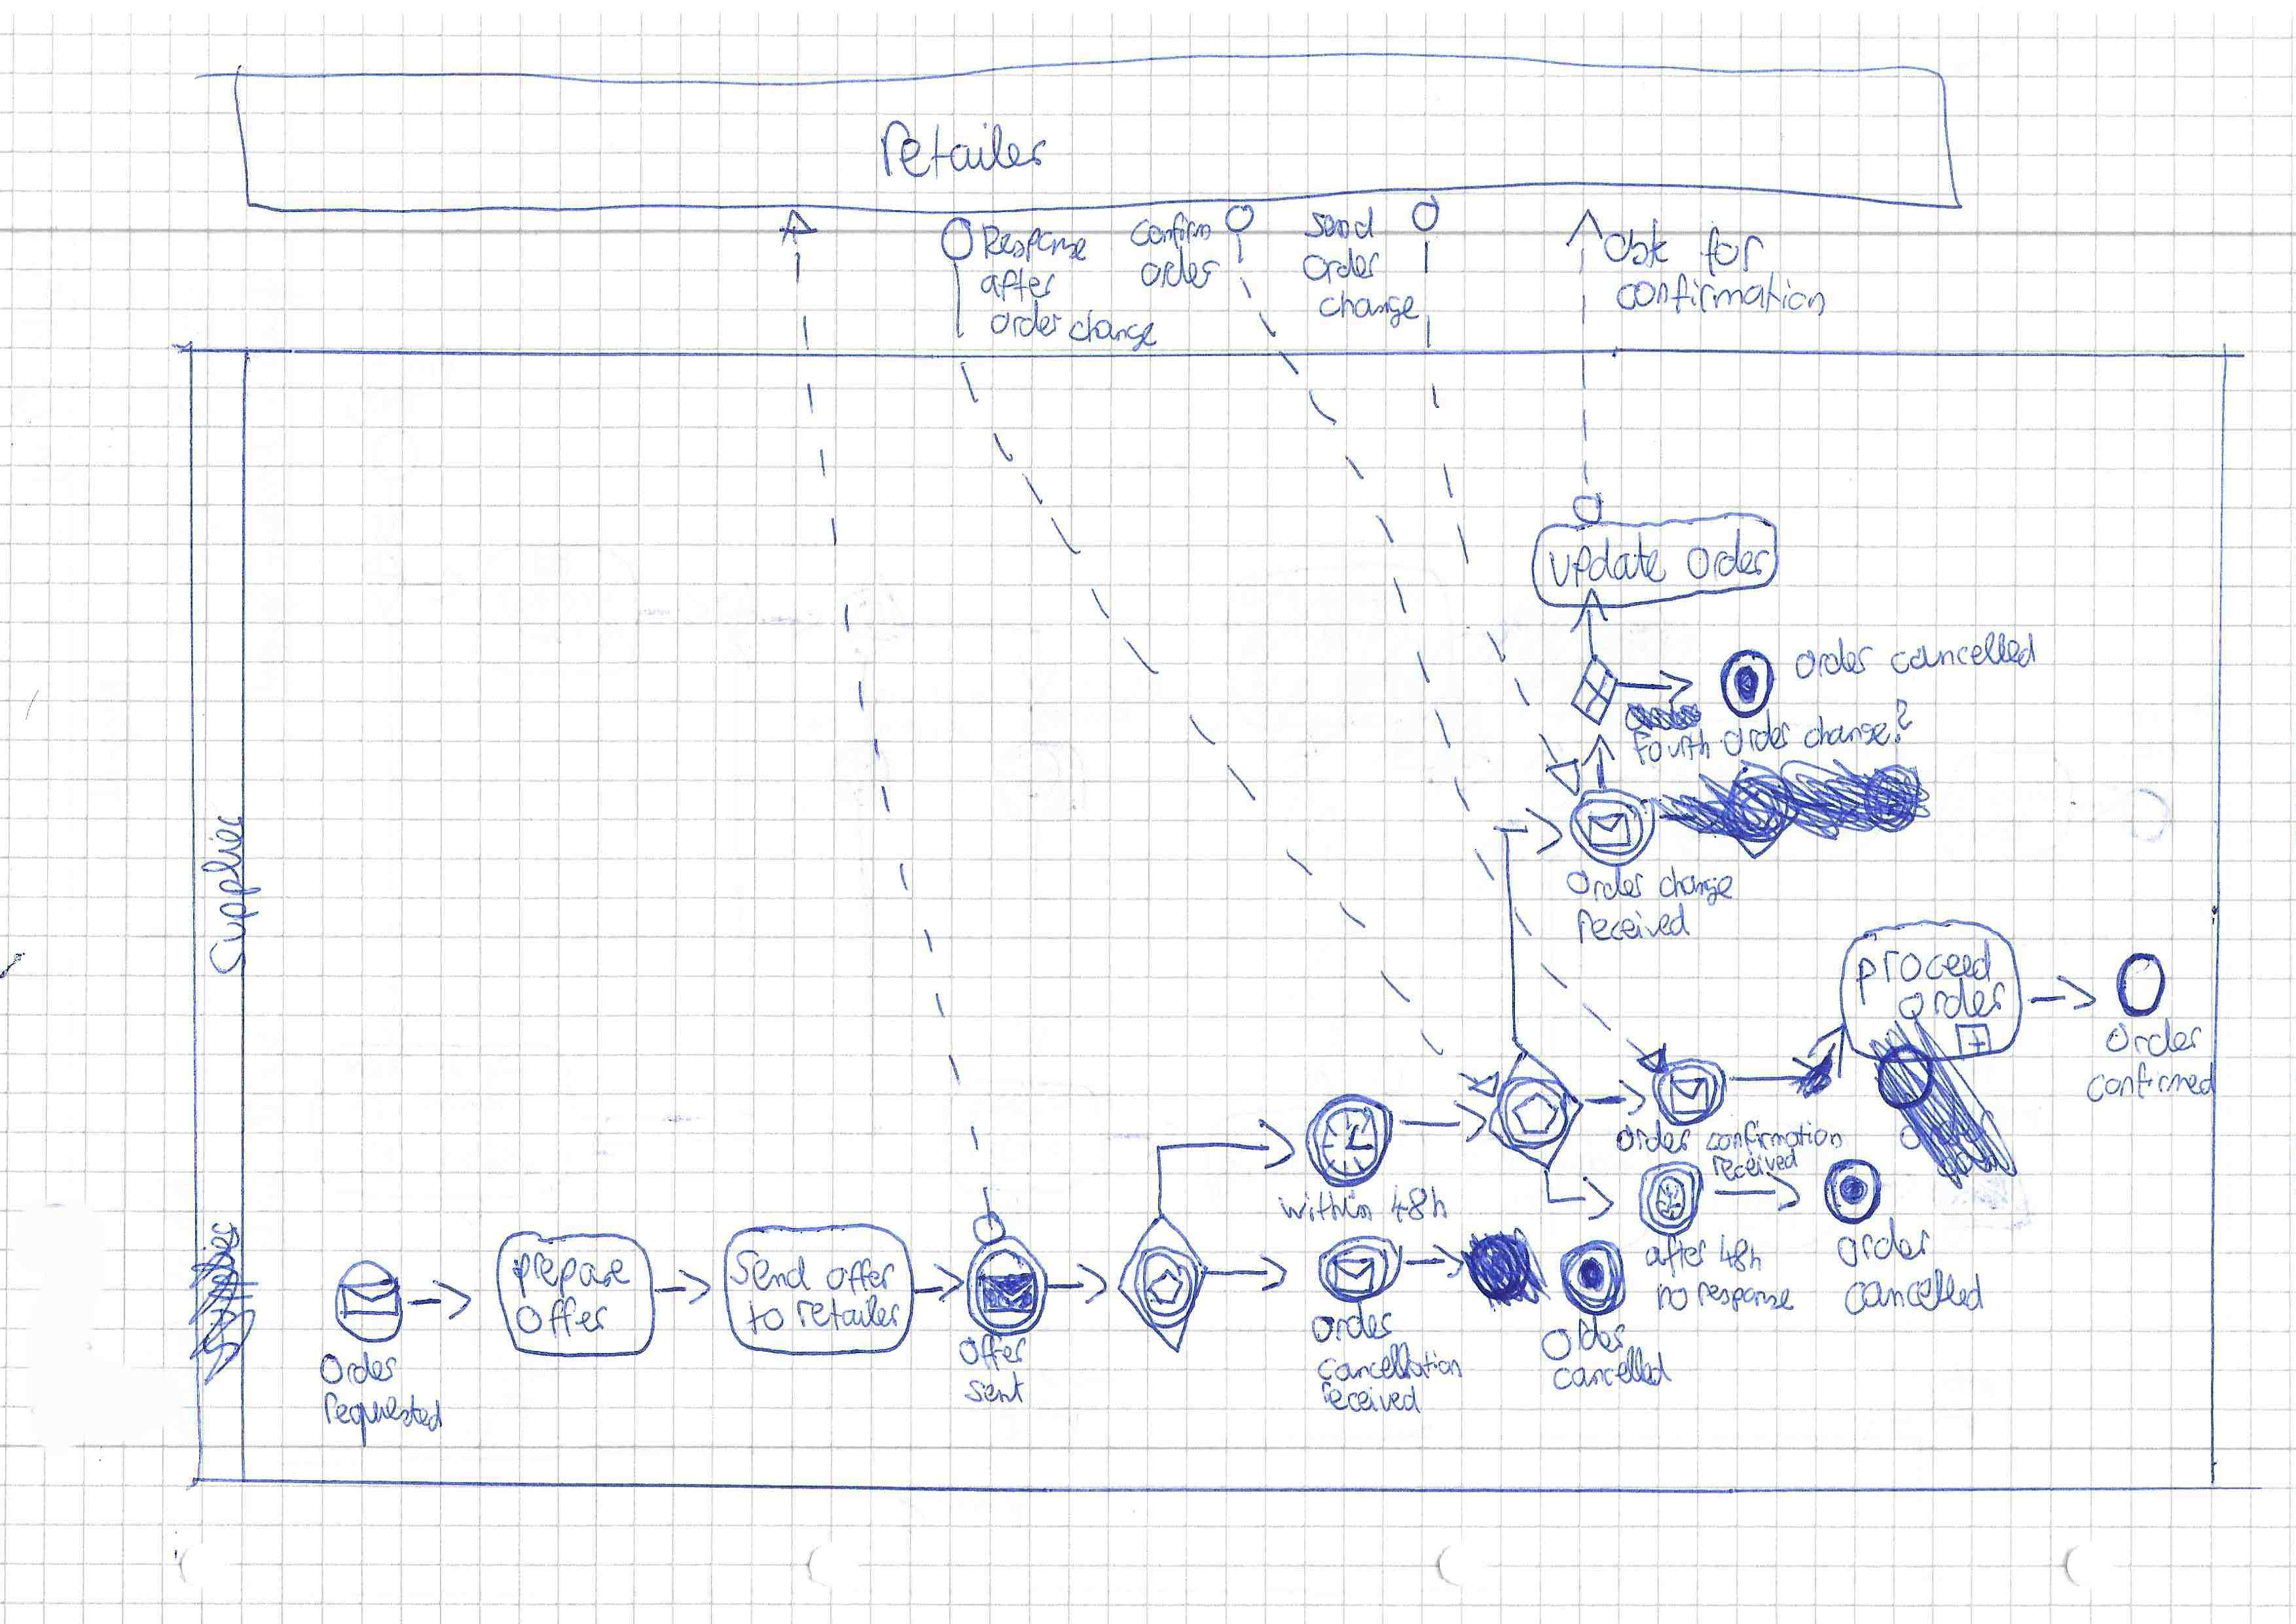48h: (1387, 1181, 1456, 1223), (1719, 1232, 1756, 1274)
Confirm: (1130, 213, 1215, 244)
Order: (1535, 1304, 1635, 1374)
Response: (977, 213, 1097, 267)
Supplier: (197, 816, 253, 977)
after: (976, 265, 1062, 306), (1638, 1237, 1718, 1278)
ask: (1600, 223, 1672, 267)
cancellation: (1319, 1350, 1457, 1388)
cancelled: (1558, 1345, 1663, 1392), (1842, 1280, 1981, 1313), (1915, 633, 2011, 675)
change: (1310, 283, 1431, 334), (1644, 863, 1744, 910), (1065, 309, 1157, 346)
change?: (1802, 703, 1911, 747)
confirmation: (1614, 274, 1832, 323), (1707, 1120, 1842, 1158)
confirmed: (2083, 1065, 2213, 1102)
for: (1681, 218, 1772, 274)
fourth: (1624, 726, 1728, 770)
no: (1635, 1276, 1704, 1322)
offer: (809, 1253, 909, 1295), (949, 1336, 1044, 1367)
offfer: (510, 1297, 619, 1334)
order: (1663, 533, 1791, 589), (1834, 1216, 1934, 1271), (301, 1350, 422, 1390), (1600, 1121, 1714, 1160), (1304, 237, 1385, 292), (1123, 250, 1222, 294), (1788, 643, 1881, 685), (988, 301, 1064, 343), (1559, 866, 1644, 903), (1902, 986, 2006, 1016), (2099, 1021, 2187, 1055), (1726, 719, 1793, 758), (1319, 1311, 1392, 1345)
prepare: (526, 1255, 631, 1295)
proceed: (1848, 949, 2004, 990)
received: (1575, 902, 1689, 944), (1301, 1381, 1429, 1413), (1718, 1144, 1795, 1186)
requested: (306, 1388, 459, 1425)
response: (1686, 1280, 1807, 1318)
retailer: (867, 104, 1050, 200), (803, 1297, 888, 1336)
send: (1308, 206, 1389, 243), (745, 1253, 796, 1294)
sent: (967, 1369, 1023, 1406)
to: (738, 1299, 786, 1338)
update: (1563, 540, 1661, 591)
within: (1282, 1185, 1370, 1223)
